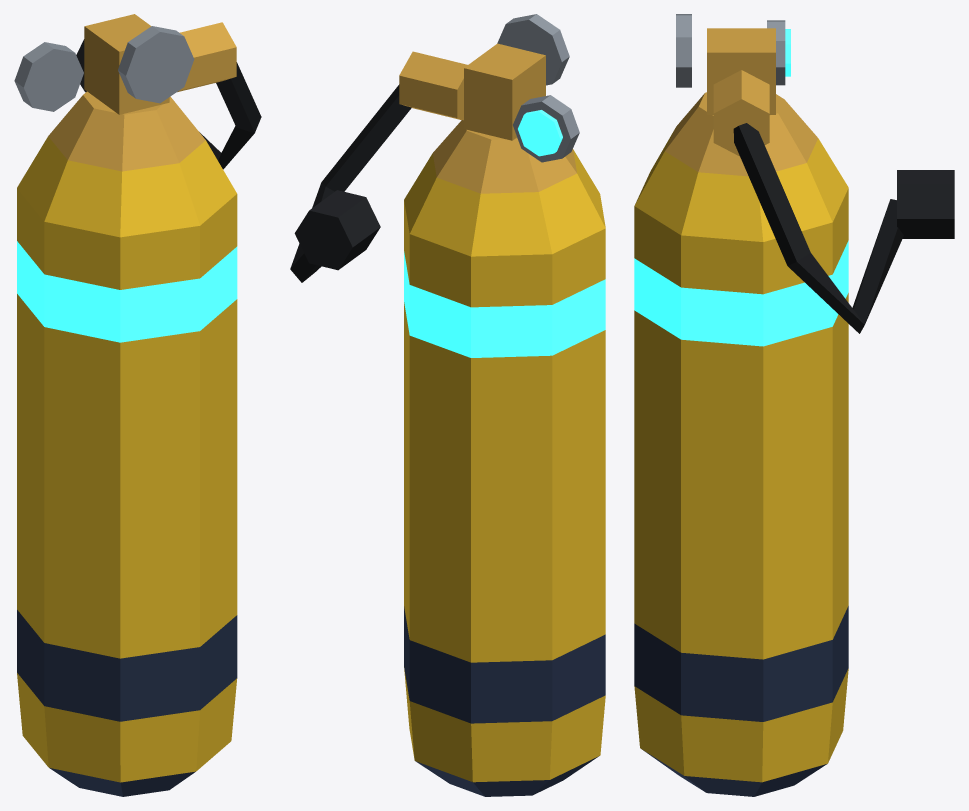
The model's file is scuba_tank.glb.
3 views of the same model, side by side, from view 1: azimuth 30°, elevation 25°; view 2: azimuth 150°, elevation 25°; view 3: azimuth 270°, elevation 25° (orthographic). The views are drawn at different scales.
Visible parts, largest first — view 1: Body; view 2: Body; view 3: Body.
Part boxes in pixels (left/top/right/bottom): Body: left=14, top=14, right=261, bottom=796; Body: left=290, top=14, right=605, bottom=796; Body: left=634, top=14, right=954, bottom=796.
Size of the model in its own units: 0.2545 by 0.724 by 0.2781.
